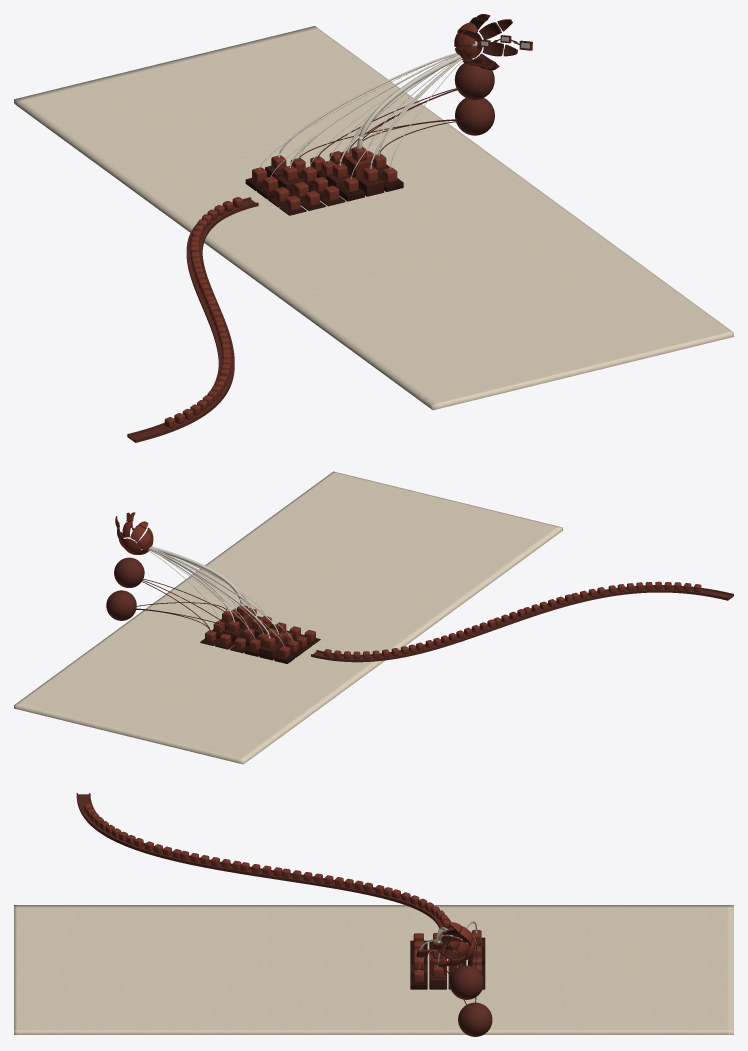
The model's file is attn-baked.glb.
The picture shows the model from 3 angles, top to bottom: view 1: azimuth 30°, elevation 25°; view 2: azimuth 150°, elevation 25°; view 3: azimuth 270°, elevation 25°; orthographic projection. The views are drawn at different scales.
Visible parts, largest first — view 1: ground_attn, ATTN_feed, ATTN_out2, ATTN_out1, ATTN_th41; view 2: ground_attn, ATTN_feed, ATTN_out1, ATTN_out2; view 3: ground_attn, ATTN_feed, ATTN_out1, ATTN_out2.
Boxes of the visible parts, x1=… form: ground_attn: x1=14, y1=26, x2=733, y2=410; ATTN_feed: x1=127, y1=197, x2=258, y2=442; ATTN_out2: x1=455, y1=98, x2=494, y2=135; ATTN_out1: x1=454, y1=63, x2=494, y2=99; ATTN_th41: x1=357, y1=54, x2=461, y2=149; ground_attn: x1=14, y1=471, x2=562, y2=764; ATTN_feed: x1=311, y1=585, x2=733, y2=662; ATTN_out1: x1=114, y1=557, x2=144, y2=587; ATTN_out2: x1=106, y1=590, x2=136, y2=620; ground_attn: x1=14, y1=905, x2=733, y2=1034; ATTN_feed: x1=76, y1=793, x2=452, y2=933; ATTN_out1: x1=449, y1=965, x2=483, y2=999; ATTN_out2: x1=458, y1=1002, x2=492, y2=1036.
Bounding box in the file's own units: 17.24 × 3.72 × 20.95.
20 materials, 20 textured.
